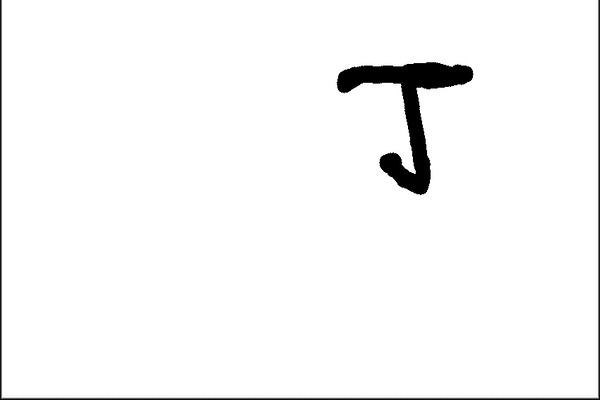J: (330, 52, 479, 196)
